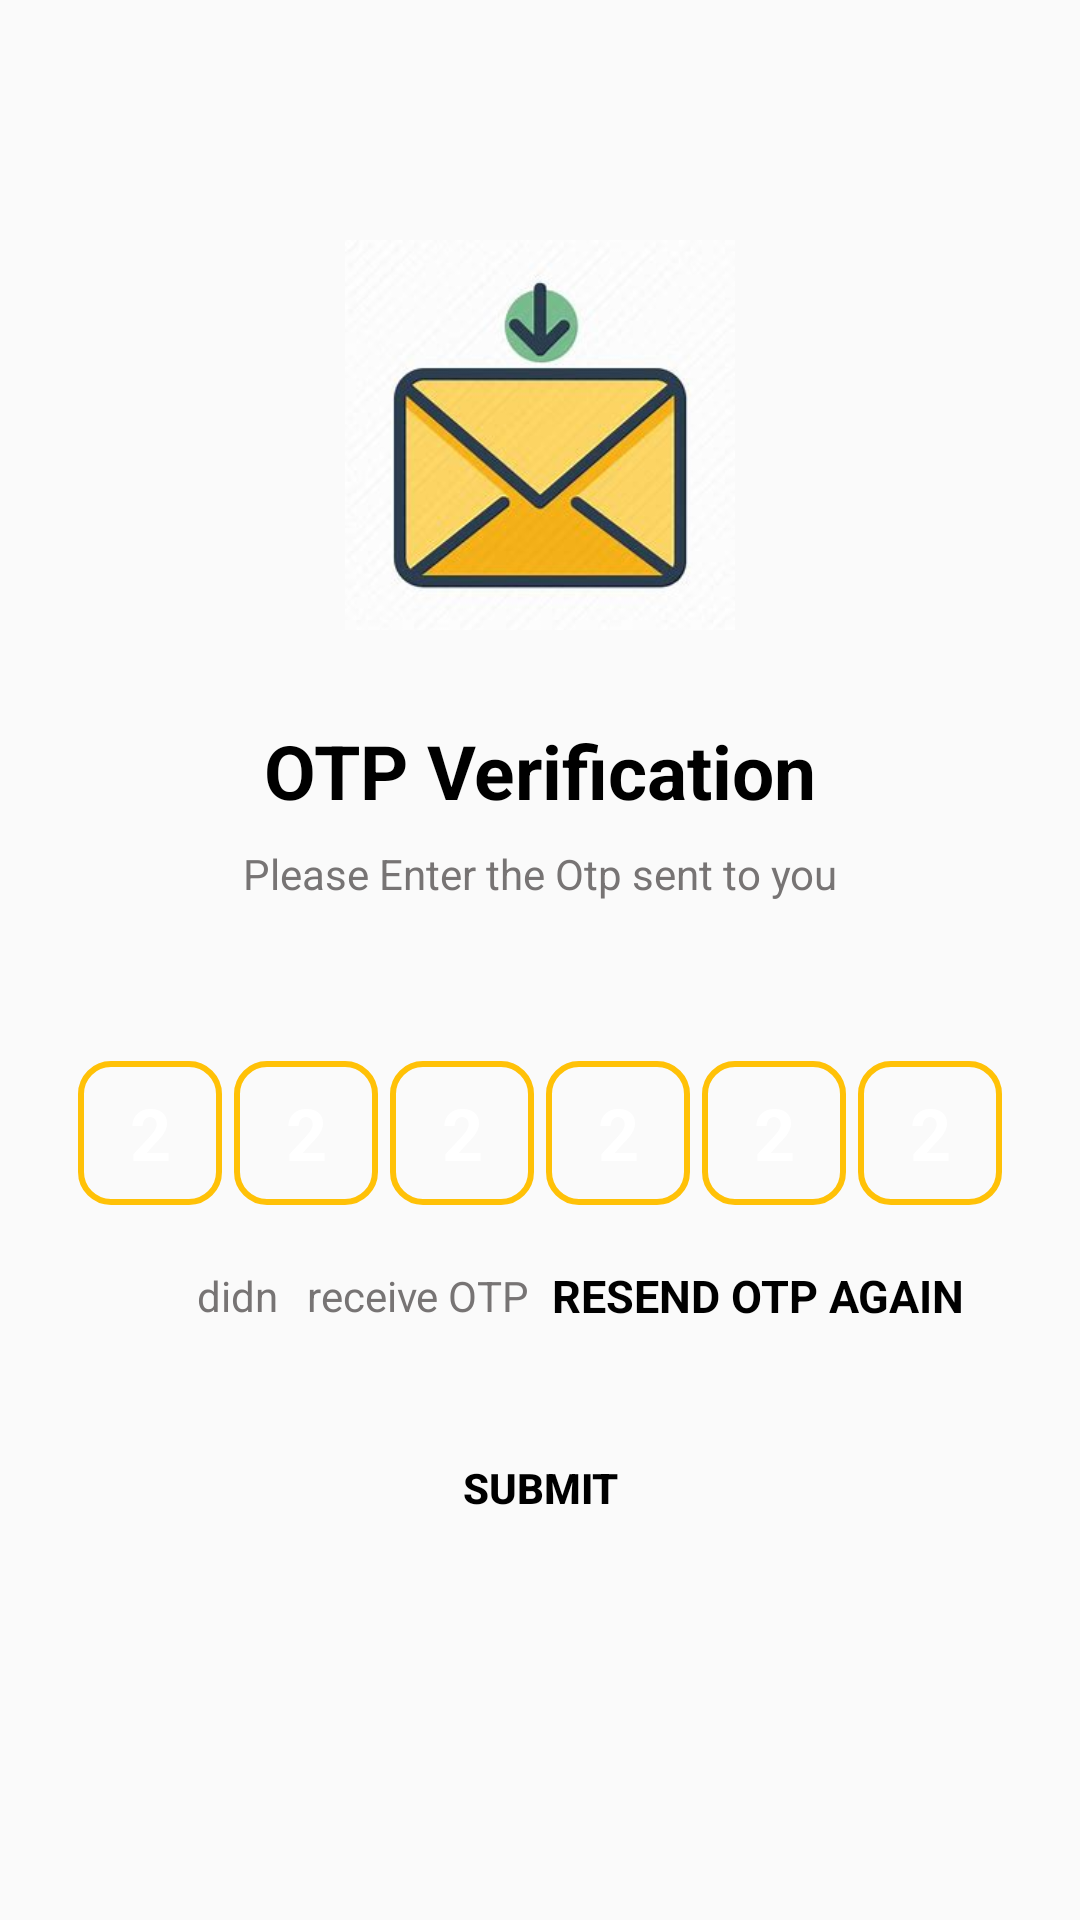

Locate icon controls on the screen. Image size 1080px x 1920px, boxes as {"x1": x1, "y1": y1, "x2": x2, "y2": y2}.
recievemessage: {"x1": 393, "y1": 281, "x2": 688, "y2": 589}
